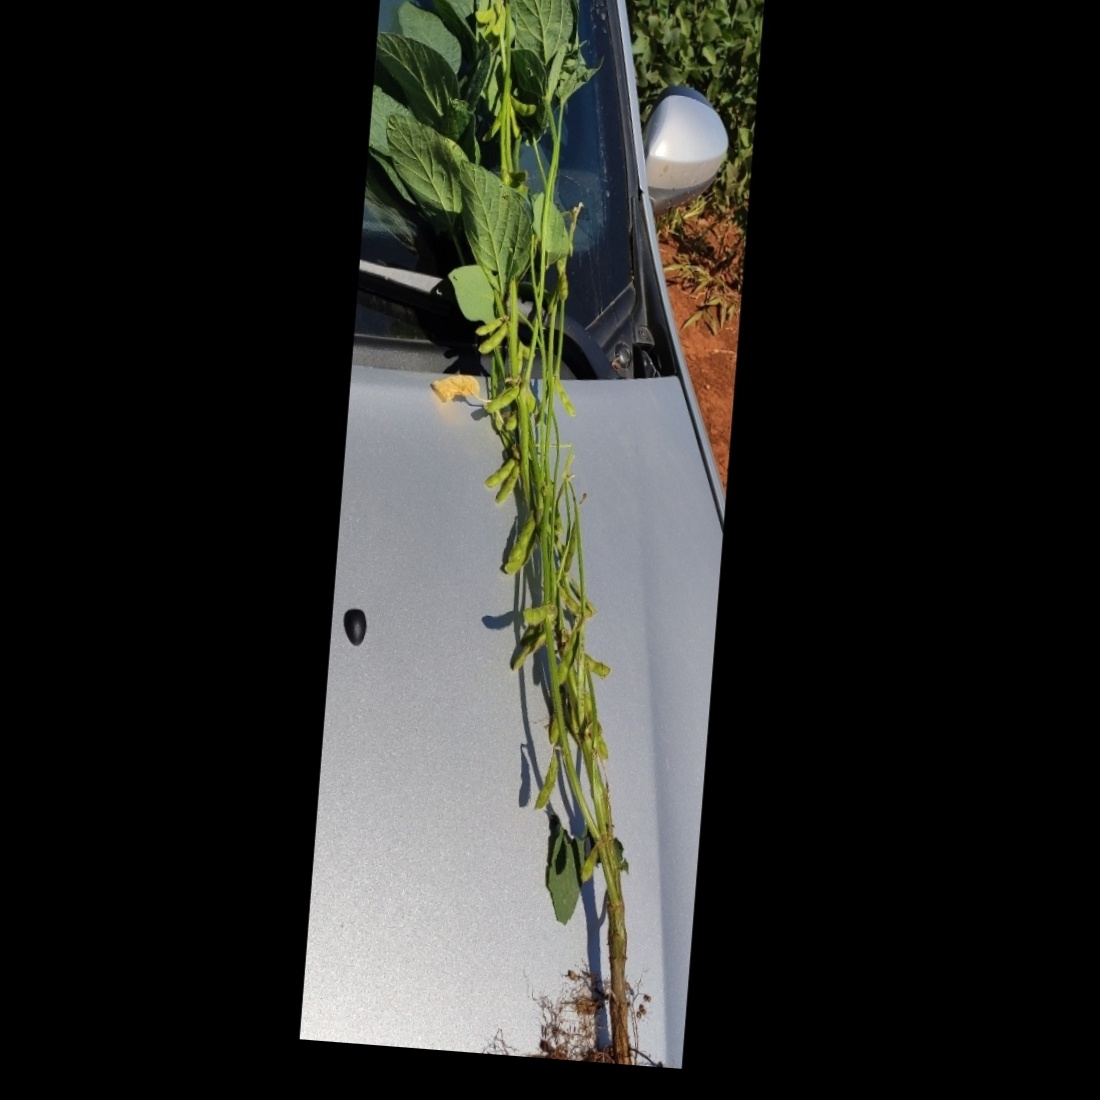pod: (533, 751, 562, 816), (544, 375, 581, 424), (476, 318, 514, 360), (482, 453, 520, 493), (494, 457, 522, 509), (484, 382, 520, 415), (471, 312, 507, 343), (503, 92, 543, 118), (583, 650, 614, 678), (489, 1, 512, 37)
soy: (315, 0, 767, 1100)
